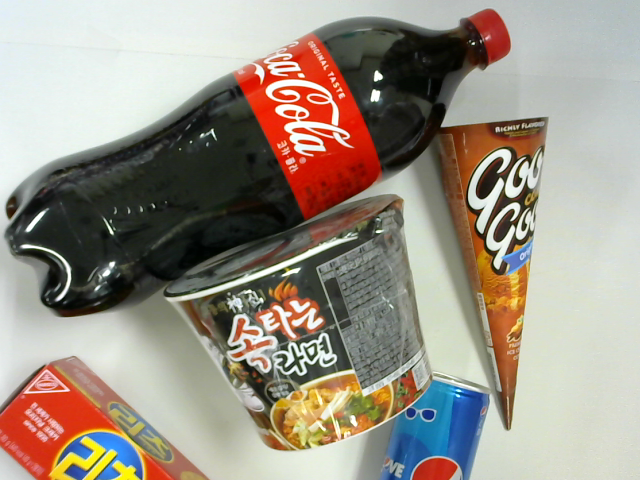Coca_Cola_1.5L: (6, 8, 509, 318)
GooGoo_Cone_CVS: (432, 116, 547, 432)
HeJangsock: (164, 194, 433, 453)
Pepsi_Cola_Can_250ml: (379, 373, 494, 480)
Ritz_Cracker: (3, 357, 212, 480)
